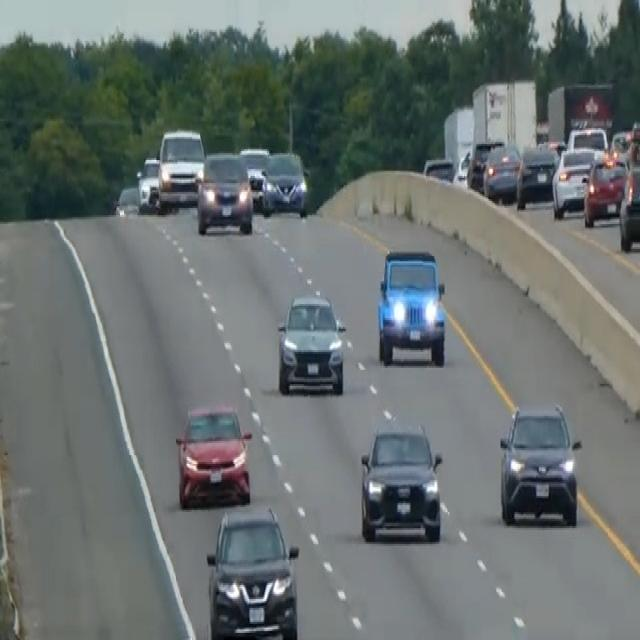car: (205, 502, 300, 638), (497, 400, 582, 528), (358, 416, 443, 544), (174, 402, 252, 508), (276, 290, 346, 396), (196, 149, 254, 235), (550, 144, 599, 219), (582, 151, 627, 226), (261, 149, 308, 217), (515, 140, 559, 208), (482, 142, 521, 203), (466, 137, 503, 192), (239, 144, 270, 208), (618, 162, 639, 252), (135, 154, 160, 212), (566, 122, 608, 154), (422, 155, 455, 183), (113, 183, 140, 217), (454, 148, 471, 183)
jeep: (375, 245, 447, 368)
minivan: (155, 126, 206, 210)
